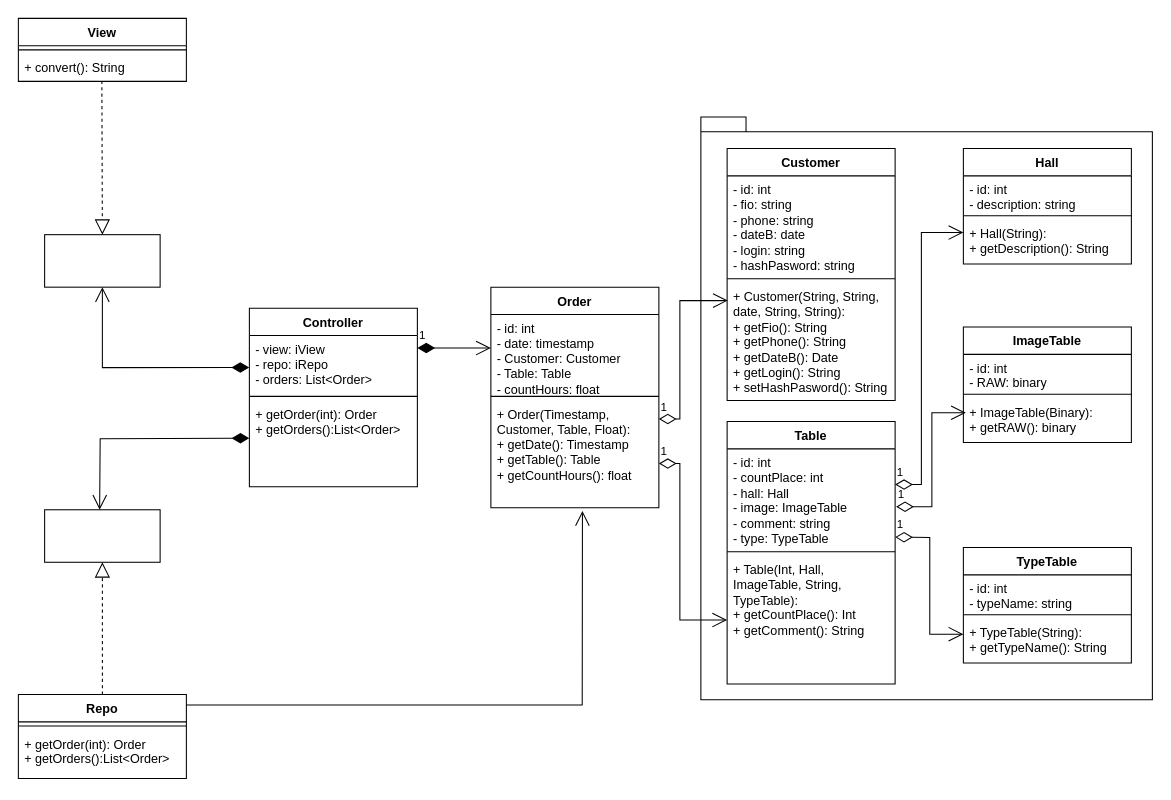
Image size: 1171x800. Some labels were removed from this diagram. Each missing label, with the centre of its shape:
«interface» iDraw: pixel 102 260
«interface» iRepo: pixel 102 535
